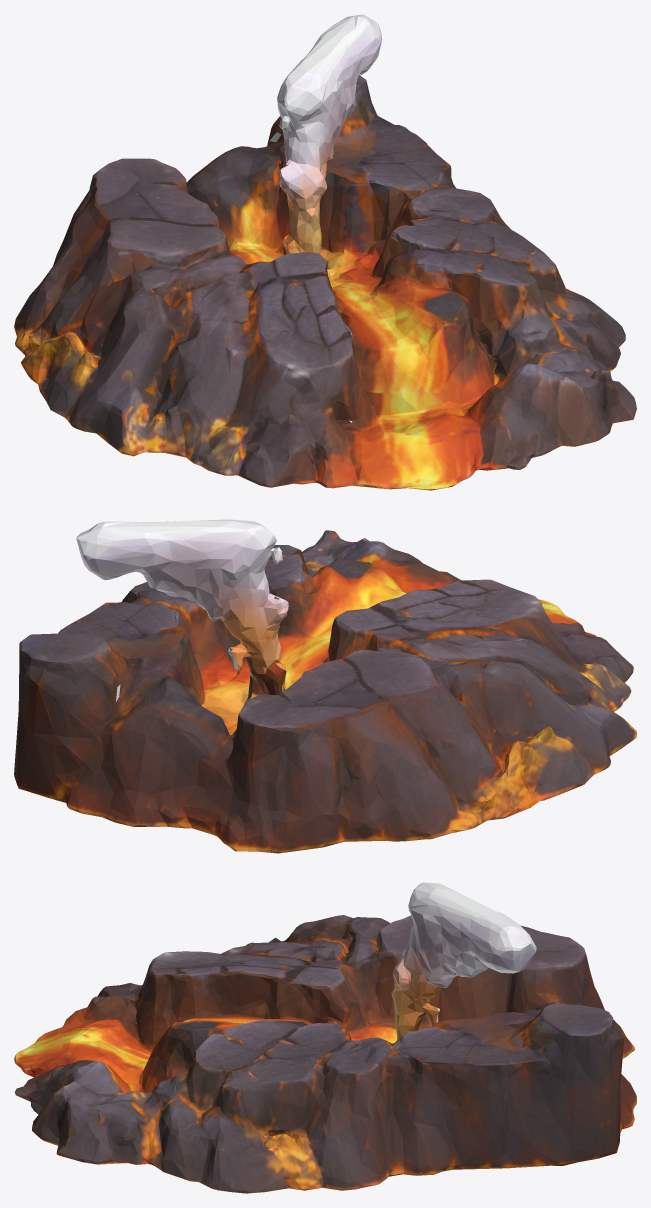
The model's file is dino_lava_vent_1117.glb.
3 views of the same model, one above another, from view 1: azimuth 30°, elevation 25°; view 2: azimuth 150°, elevation 25°; view 3: azimuth 270°, elevation 25° (orthographic). The views are drawn at different scales.
Visible parts, largest first — view 1: tmpx3iwnl_d.ply; view 2: tmpx3iwnl_d.ply; view 3: tmpx3iwnl_d.ply.
Part boxes in pixels (x1,y1,x2,y2): tmpx3iwnl_d.ply: (14, 14, 636, 490); tmpx3iwnl_d.ply: (14, 519, 636, 853); tmpx3iwnl_d.ply: (14, 882, 636, 1193).
Bounding box in the file's own units: 1.76 × 0.764 × 1.99.
1 material, 1 textured.
